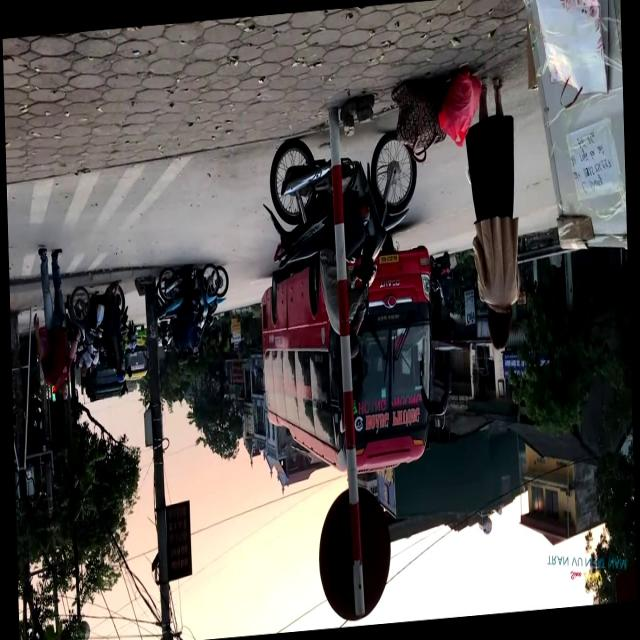bien_vang: (378, 253, 399, 265)
